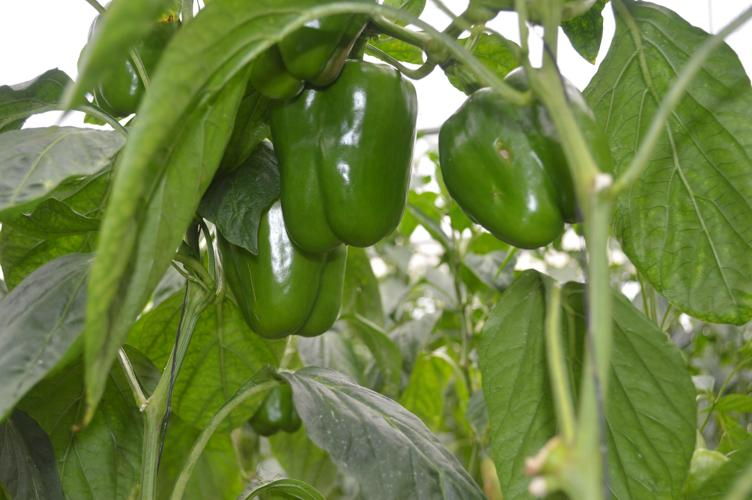BellPepper: (272, 60, 420, 255), (438, 69, 589, 250), (209, 201, 344, 335), (245, 9, 368, 95), (85, 10, 174, 109), (248, 377, 302, 435)
